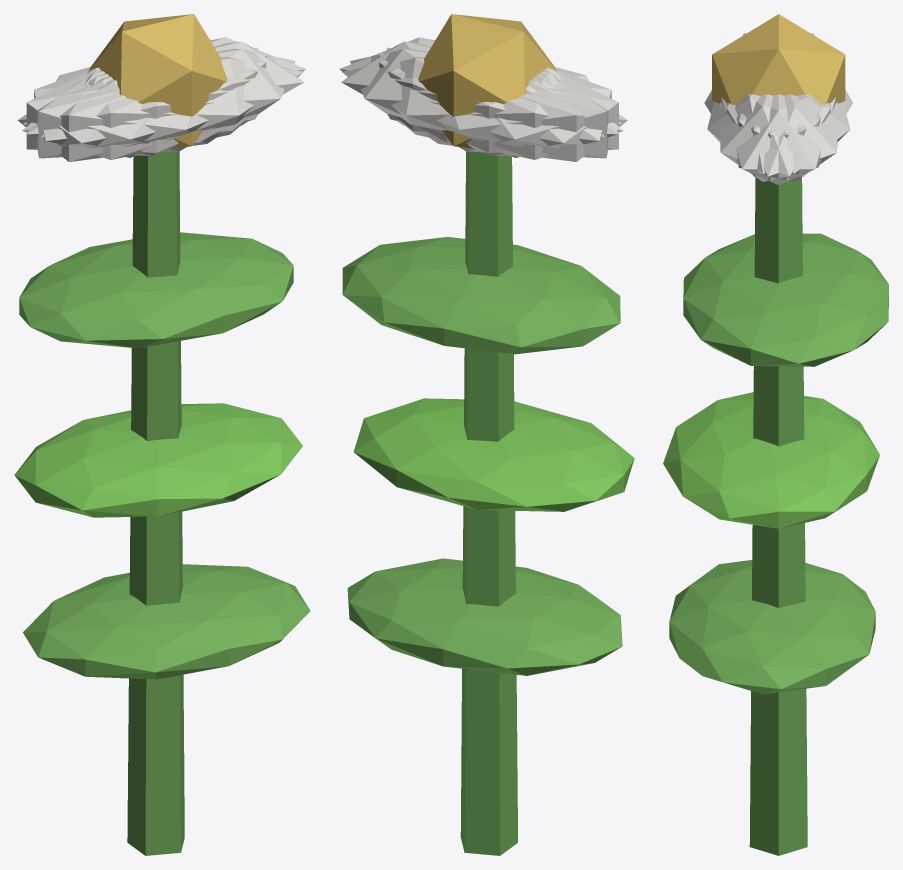
The model's file is ficus-ampelos.glb.
3 views of the same model, side by side, from view 1: azimuth 30°, elevation 25°; view 2: azimuth 150°, elevation 25°; view 3: azimuth 270°, elevation 25° (orthographic).
Parts seen in each view (by area): view 1: stem, leaf1, leaf0, leaf2, center, petal1, petal6, petal2, petal5, petal7, petal0, petal4 (+2 smaller); view 2: stem, leaf2, leaf1, leaf0, center, petal8, petal3, petal7, petal4, petal2, petal0, petal5 (+2 smaller); view 3: stem, leaf2, leaf1, leaf0, center, petal0, petal4, petal5, petal8, petal1.
Part boxes in pixels (left/top/right/bottom): stem: left=127, top=151, right=184, bottom=855; leaf1: left=14, top=403, right=302, bottom=517; leaf0: left=23, top=564, right=310, bottom=679; leaf2: left=19, top=232, right=293, bottom=348; center: left=88, top=14, right=227, bottom=148; petal1: left=22, top=56, right=303, bottom=159; petal6: left=17, top=69, right=221, bottom=161; petal2: left=37, top=47, right=258, bottom=158; petal5: left=41, top=48, right=295, bottom=152; petal7: left=26, top=53, right=266, bottom=155; petal0: left=88, top=41, right=303, bottom=142; petal4: left=23, top=37, right=305, bottom=134; stem: left=460, top=151, right=517, bottom=855; leaf2: left=342, top=237, right=620, bottom=354; leaf1: left=353, top=398, right=634, bottom=511; leaf0: left=347, top=558, right=622, bottom=675; center: left=418, top=14, right=556, bottom=148; petal8: left=342, top=56, right=623, bottom=159; petal3: left=424, top=69, right=627, bottom=161; petal7: left=386, top=47, right=608, bottom=158; petal4: left=350, top=48, right=604, bottom=152; petal2: left=378, top=53, right=618, bottom=155; petal0: left=341, top=41, right=557, bottom=142; petal5: left=340, top=37, right=621, bottom=134; stem: left=749, top=177, right=807, bottom=855; leaf2: left=683, top=233, right=888, bottom=366; leaf1: left=663, top=392, right=879, bottom=528; leaf0: left=669, top=560, right=875, bottom=694; center: left=712, top=14, right=845, bottom=104; petal0: left=721, top=94, right=835, bottom=185; petal4: left=726, top=94, right=837, bottom=181; petal5: left=720, top=94, right=830, bottom=181; petal8: left=736, top=94, right=850, bottom=173; petal1: left=707, top=94, right=820, bottom=173.
Bounding box in the file's own units: 0.1452 × 0.4115 × 0.1038.
